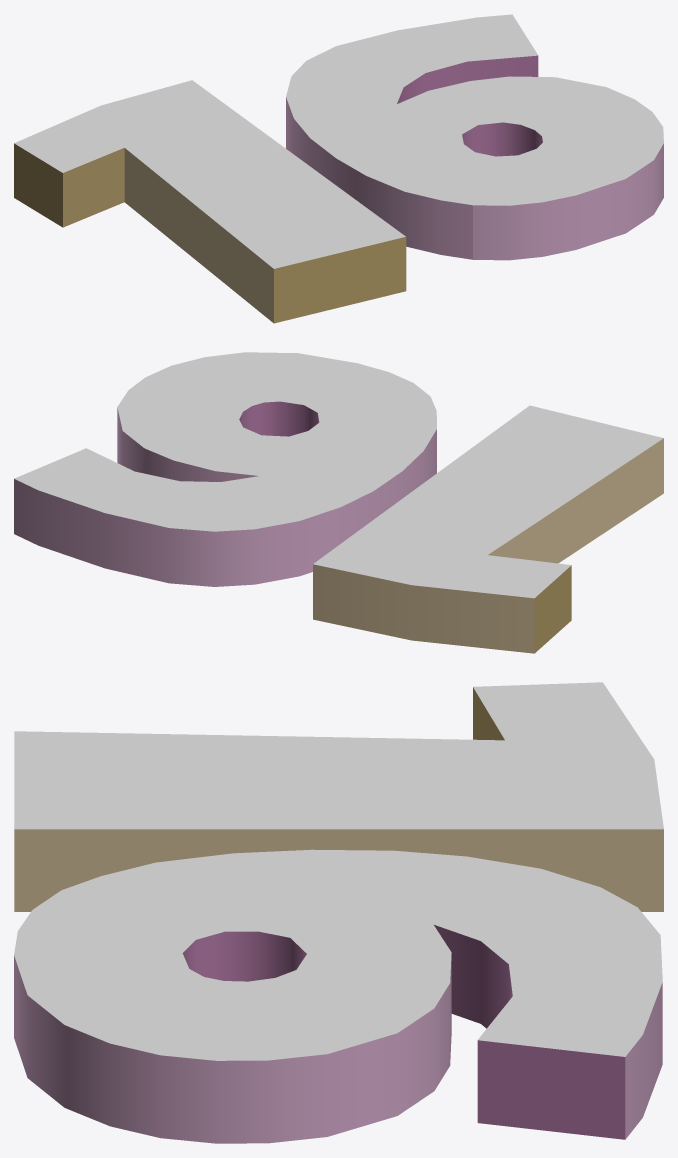
The model's file is 16CakeText.fbx.
The picture shows the model from 3 angles, top to bottom: view 1: azimuth 30°, elevation 25°; view 2: azimuth 150°, elevation 25°; view 3: azimuth 270°, elevation 25°; orthographic projection. The views are drawn at different scales.
Parts seen in each view (by area): view 1: 16CakeText; view 2: 16CakeText; view 3: 16CakeText.
Part boxes in pixels (x1=…): 16CakeText: x1=14, y1=14, x2=663, y2=323; 16CakeText: x1=14, y1=352, x2=663, y2=653; 16CakeText: x1=14, y1=682, x2=663, y2=1143.
Size of the model in its own units: 78.43 by 8 by 56.9.
